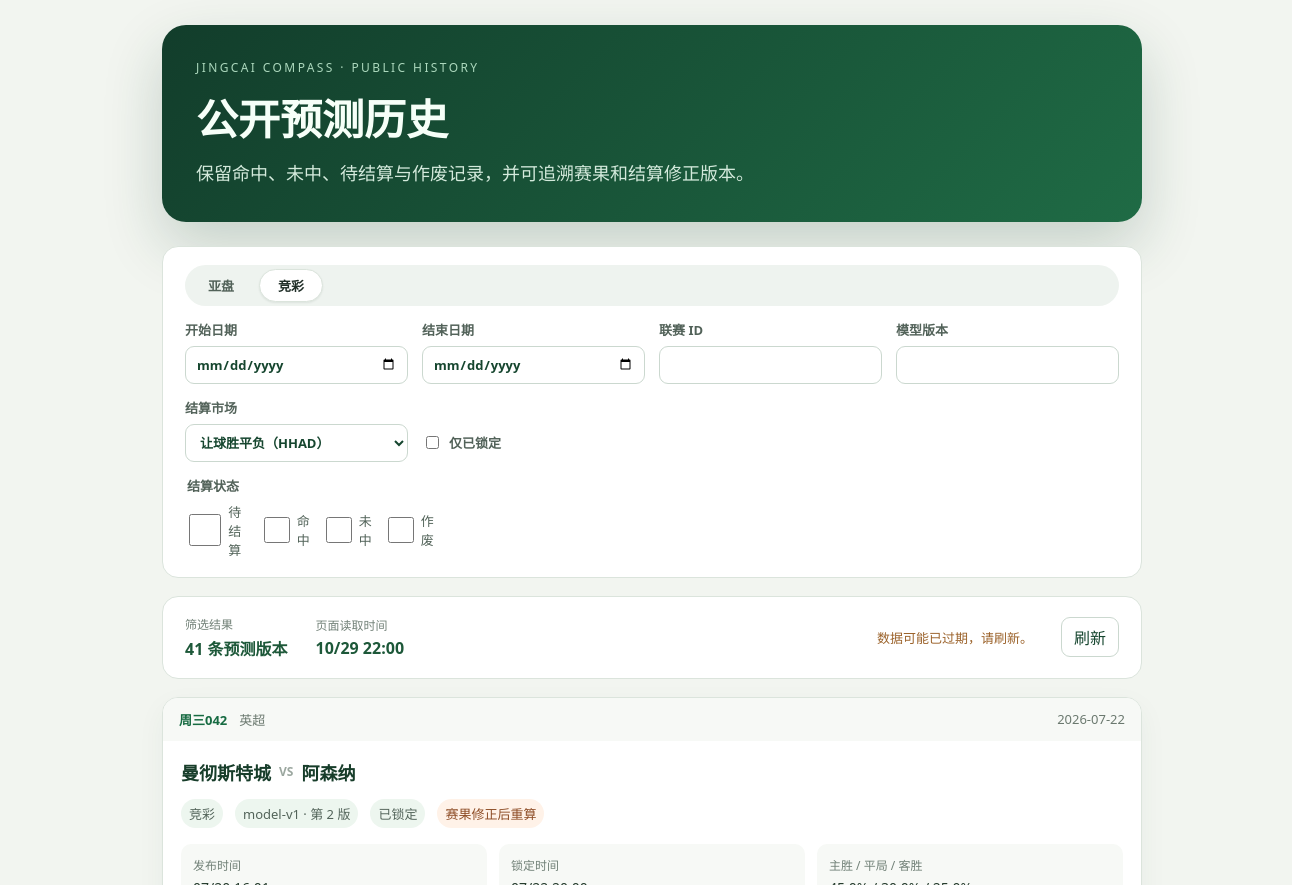
it: HistoryPage › writes settlement filters to the URL and resets pagination
Click the checkbox labelled "待结算".
click(205, 530)  # box [189, 511, 221, 549]
(page scrolled)
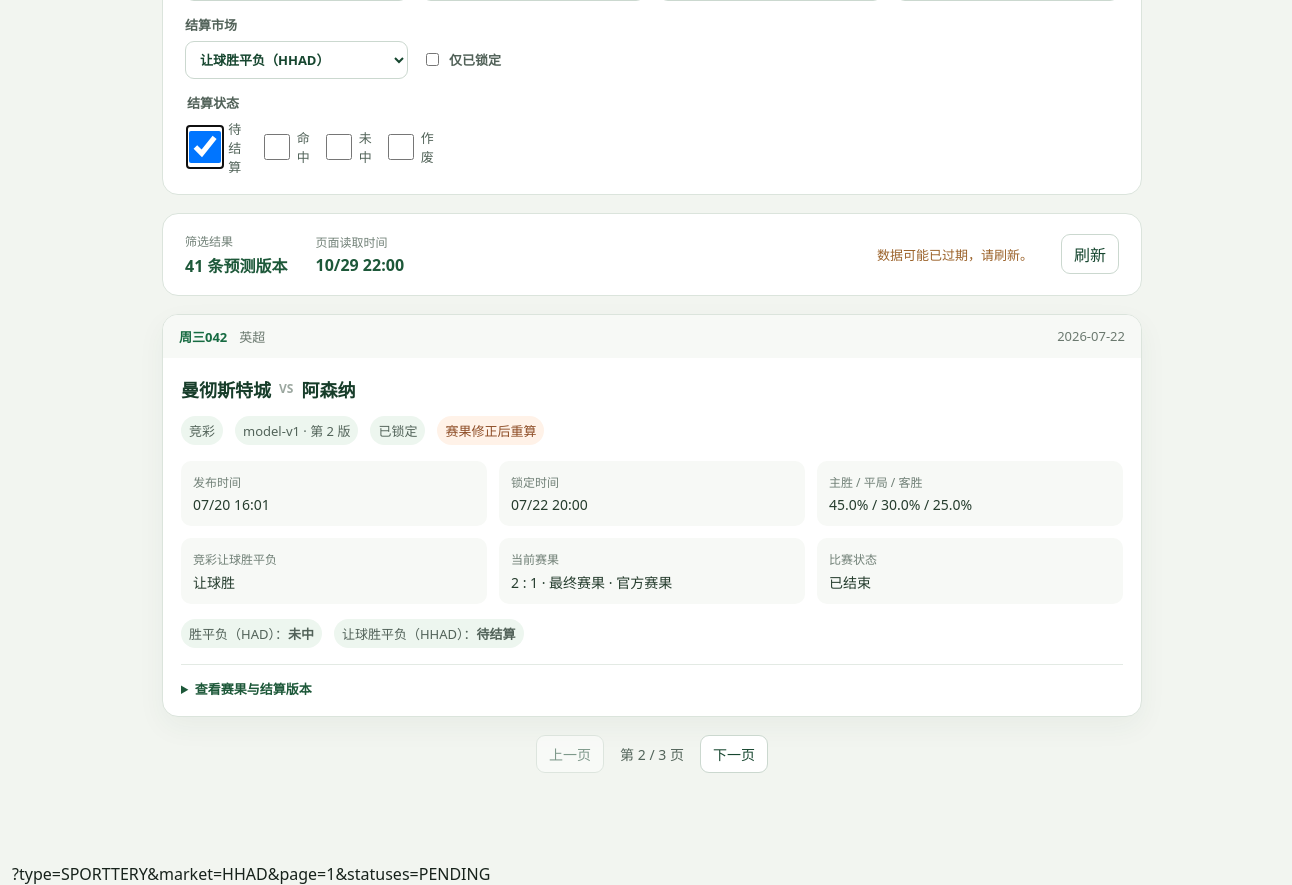
Expected: the text with test id "location" shows "type=SPORTTERY&market=HHAD&page=1&statuses=PENDING", [12, 863, 490, 884]
